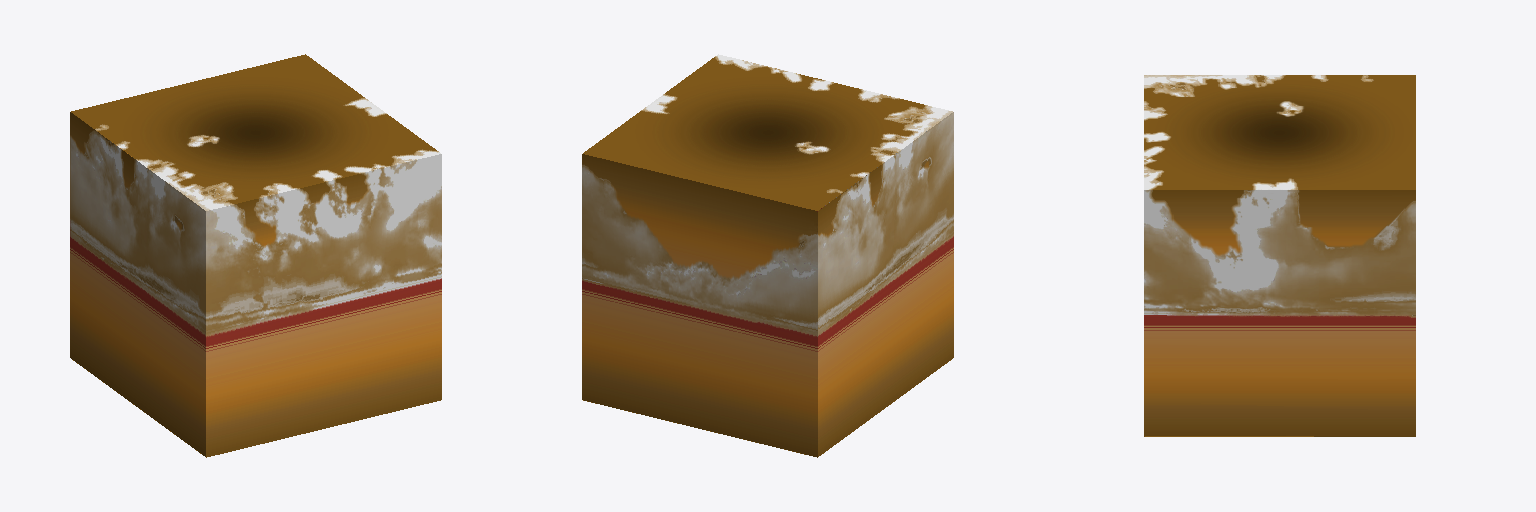
The picture shows the model from 3 angles: view 1: azimuth 30°, elevation 25°; view 2: azimuth 150°, elevation 25°; view 3: azimuth 270°, elevation 25°; orthographic projection.
Visible parts, largest first — view 1: Cube; view 2: Cube; view 3: Cube.
Boxes of the visible parts, <box> form: Cube: <box>70,54,441,457</box>; Cube: <box>582,54,953,457</box>; Cube: <box>1144,75,1415,436</box>.
Bounding box in the file's own units: 100 × 100 × 100.
Materials: 1 (1 with a texture image).